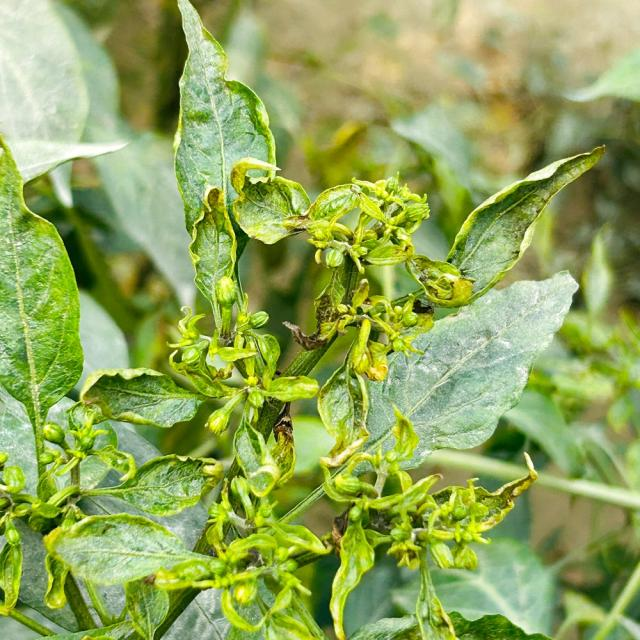Chilli_Leaf_Curl: (1, 1, 606, 638), (316, 268, 580, 476), (170, 0, 278, 337), (0, 133, 84, 496), (440, 143, 606, 307)
